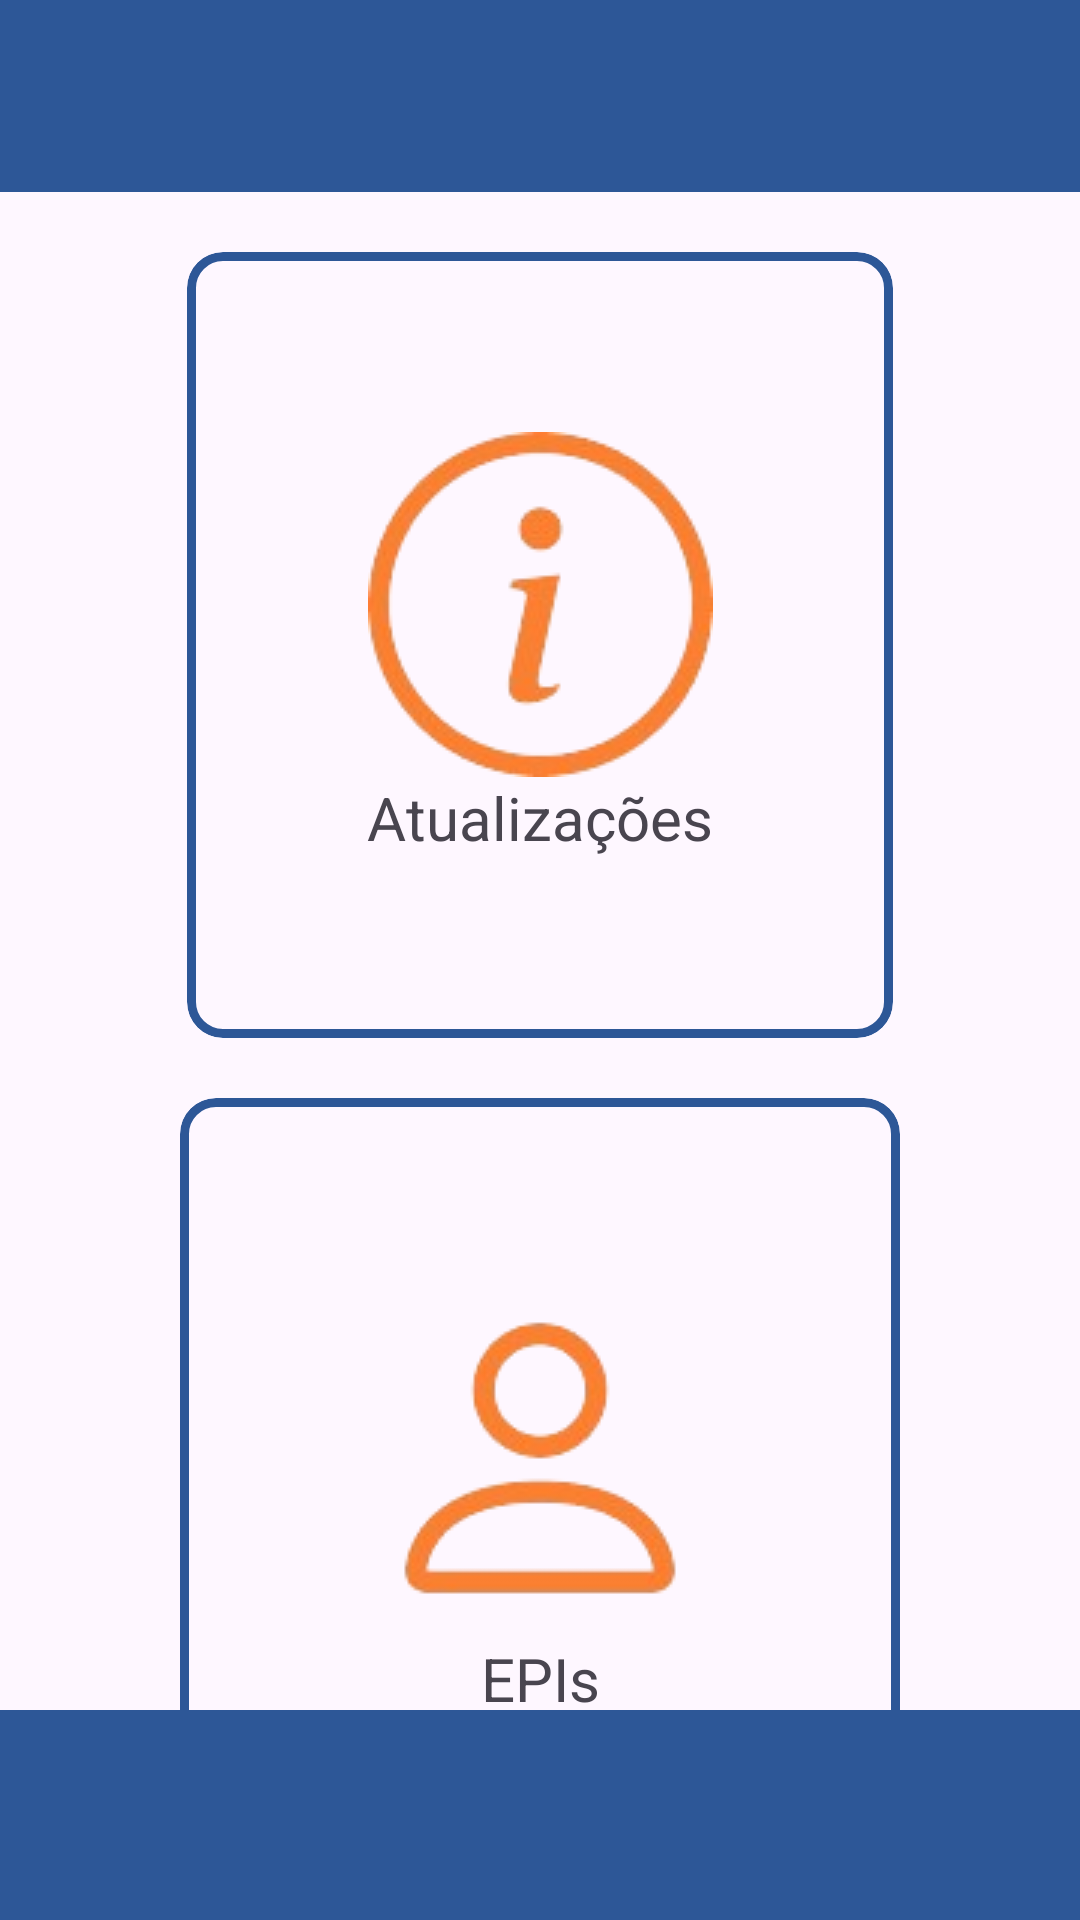

Icons on this 1080x1920 Android screen, each with the point to tap as point (x, y):
infocircle: point (540, 604)
person: point (540, 1458)
